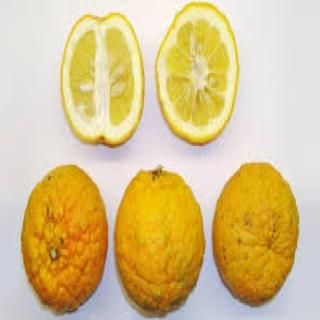orange: (13, 166, 112, 320), (112, 160, 206, 320), (211, 146, 305, 305), (152, 0, 239, 163), (50, 7, 147, 151)
